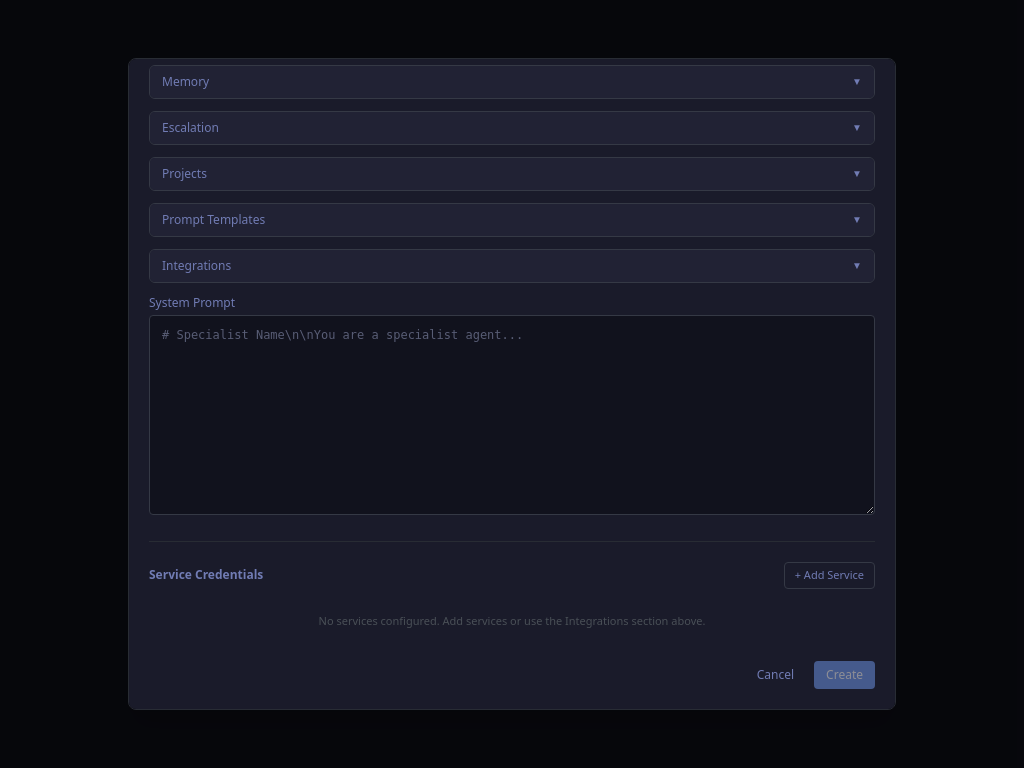
Test: AddSpecialistDialog › should allow removing a credential key-value pair
(page scrolled)
Click the button with test id "specialist-add-service-btn": (829, 575) [784,562,875,589]
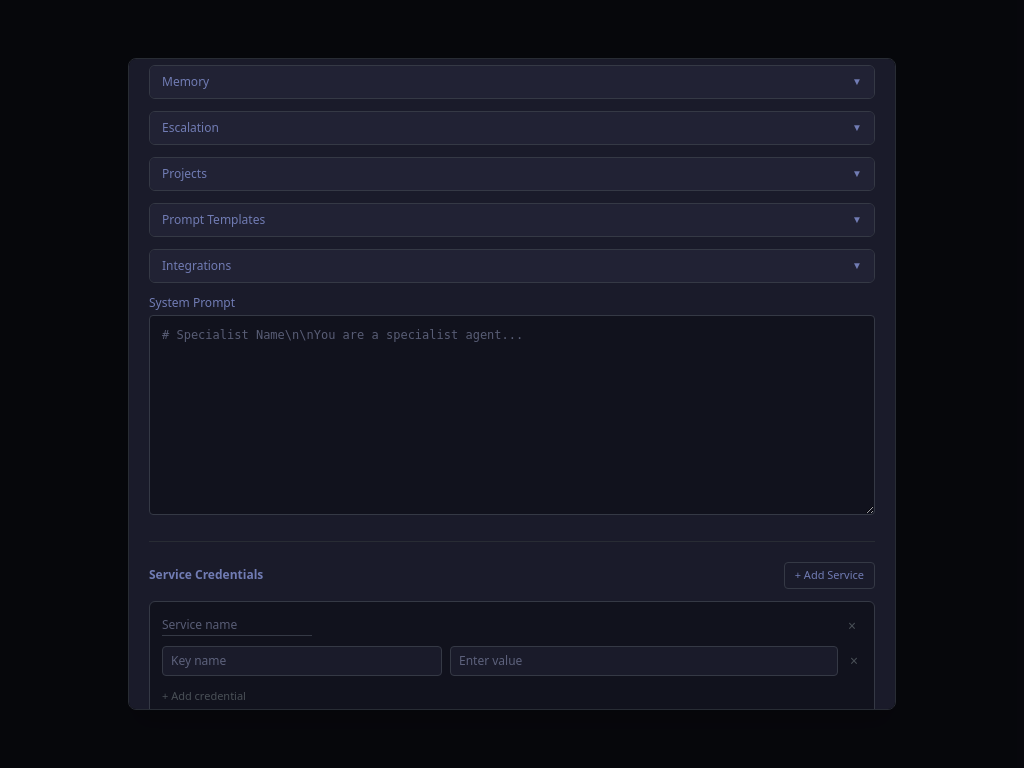
Now the field with test id "specialist-credential-key-0-0" is shown, box [162,646,442,676]
// Click remove credential button
Click the button with test id "specialist-remove-credential-0-0": (854, 661) [846,649,862,673]
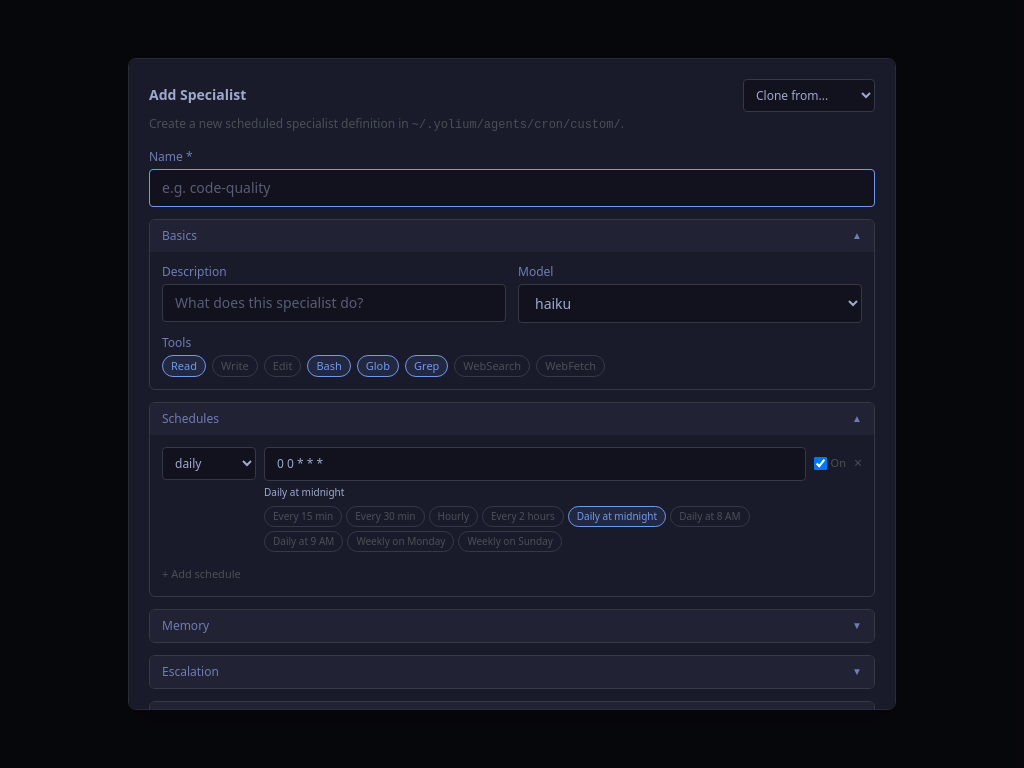
Now the field with test id "specialist-credential-key-0-0" is gone
